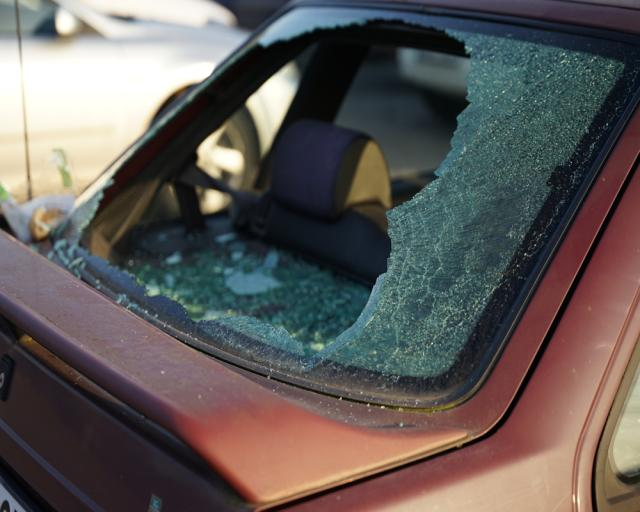glass shatter: (59, 6, 640, 400)
